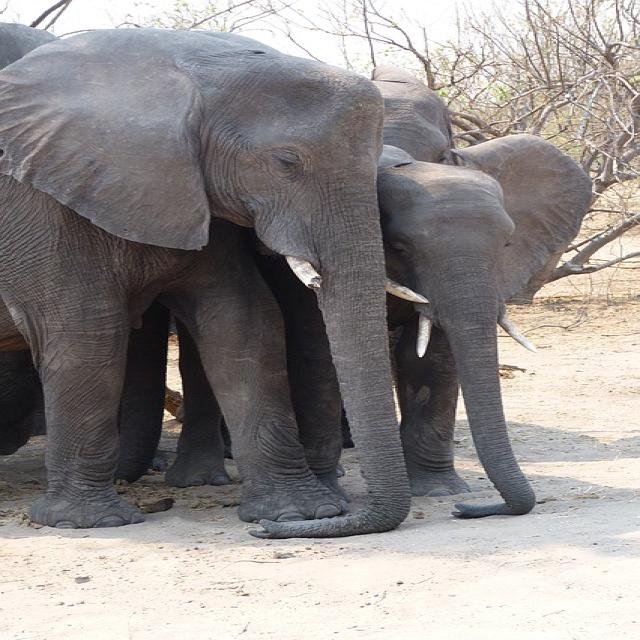FIL: (0, 21, 420, 534)
